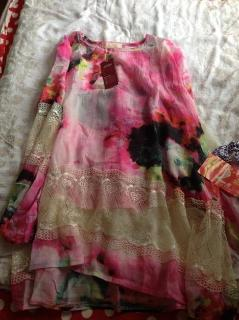long sleeve top: (0, 30, 239, 319)
